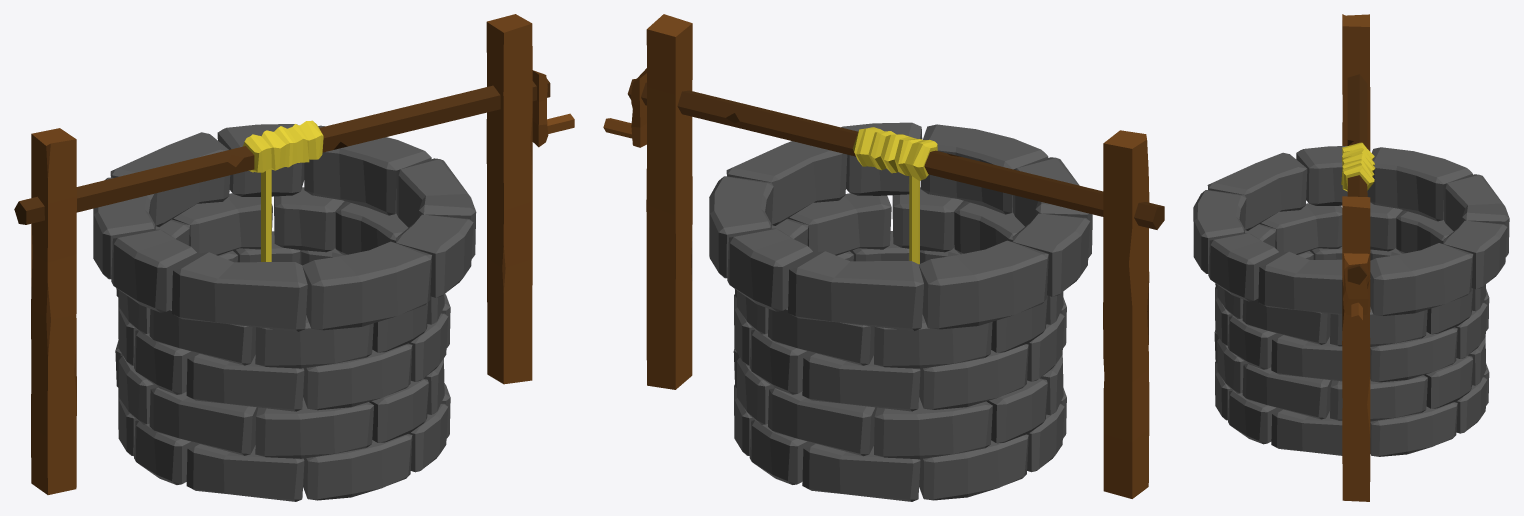
Rendered from Studnia.fbx.
The picture shows the model from 3 angles, left to right: view 1: azimuth 30°, elevation 25°; view 2: azimuth 150°, elevation 25°; view 3: azimuth 270°, elevation 25°; orthographic projection. The views are drawn at different scales.
Visible parts, largest first — view 1: Cube, Cube.002, Cube.001, Cube.006, Cylinder, Cylinder.002, Cube.007, Cylinder.003; view 2: Cube, Cube.002, Cube.001, Cube.006, Cylinder, Cylinder.002, Cube.007, Cylinder.003; view 3: Cube, Cube.002, Cube.001, Cube.006, Cylinder, Cube.007, Cylinder.002.
Boxes of the visible parts, <box> form: Cube: <box>115,187,450,501</box>; Cube.002: <box>93,124,476,331</box>; Cube.001: <box>486,14,532,384</box>; Cube.006: <box>31,128,76,494</box>; Cylinder: <box>14,78,550,224</box>; Cylinder.002: <box>243,120,323,172</box>; Cube.007: <box>532,70,548,147</box>; Cylinder.003: <box>261,169,271,261</box>; Cube: <box>733,187,1066,501</box>; Cube.002: <box>709,122,1092,331</box>; Cube.001: <box>646,14,692,389</box>; Cube.006: <box>1103,130,1149,498</box>; Cylinder: <box>627,78,1164,229</box>; Cylinder.002: <box>852,127,937,180</box>; Cube.007: <box>631,68,646,147</box>; Cylinder.003: <box>909,175,919,264</box>; Cube: <box>1214,202,1489,456</box>; Cube.002: <box>1193,146,1509,315</box>; Cube.001: <box>1342,196,1370,501</box>; Cube.006: <box>1342,14,1370,196</box>; Cylinder: <box>1347,74,1367,284</box>; Cube.007: <box>1343,253,1369,314</box>; Cylinder.002: <box>1341,142,1375,191</box>.
Size of the model in its own units: 242 by 150 by 146.
